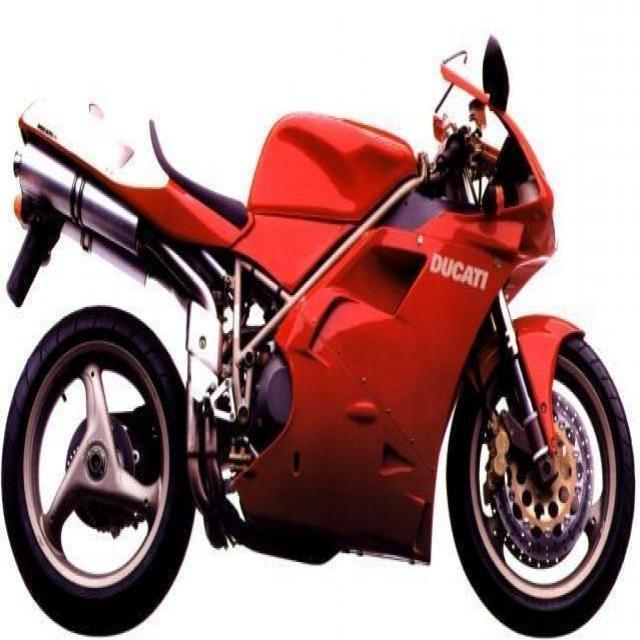Motorcycle: (3, 41, 636, 638)
